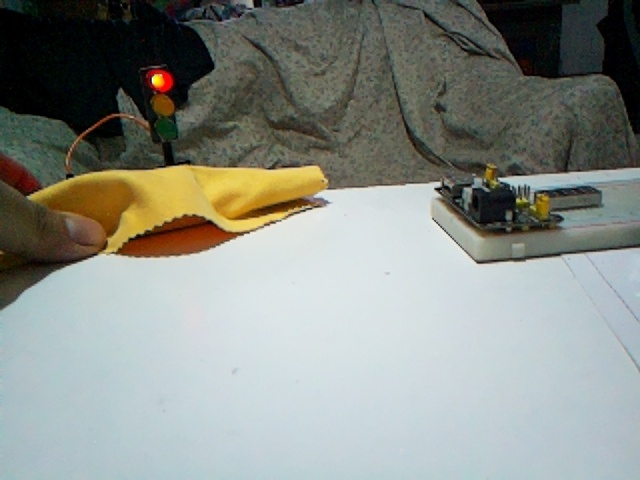traffic_light_red: (137, 62, 180, 144)
